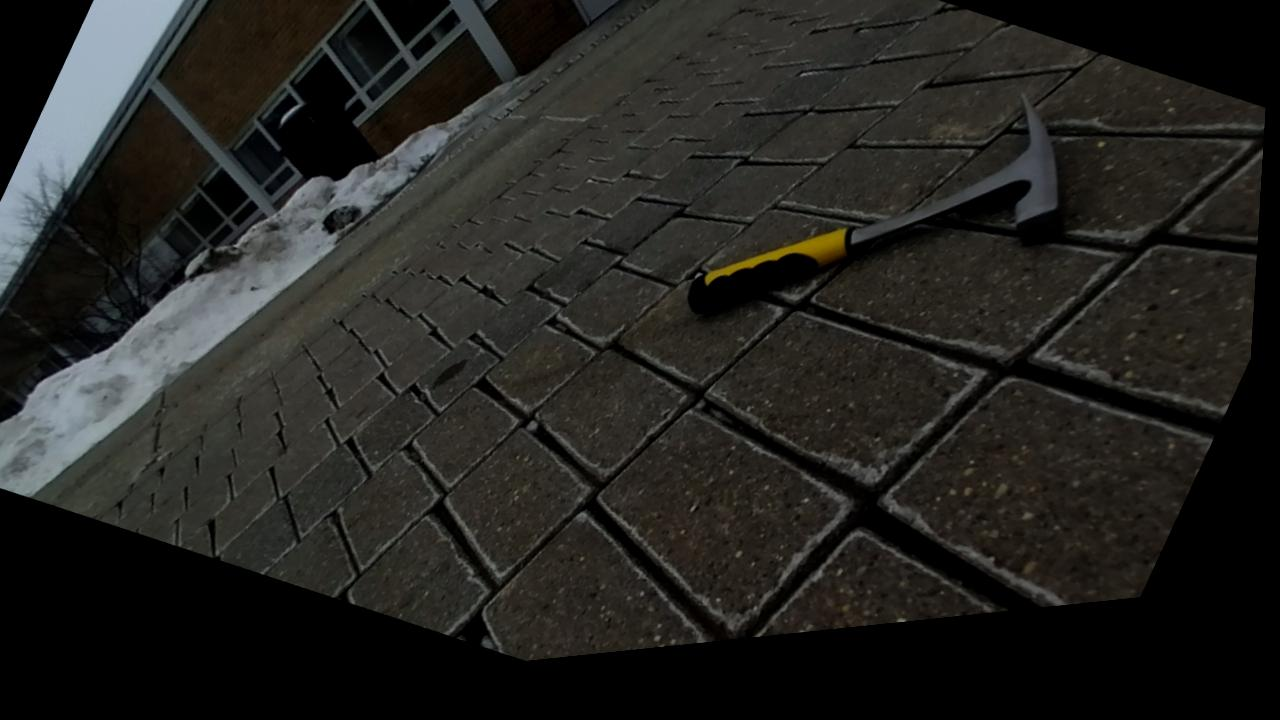pick: (687, 95, 1062, 313)
